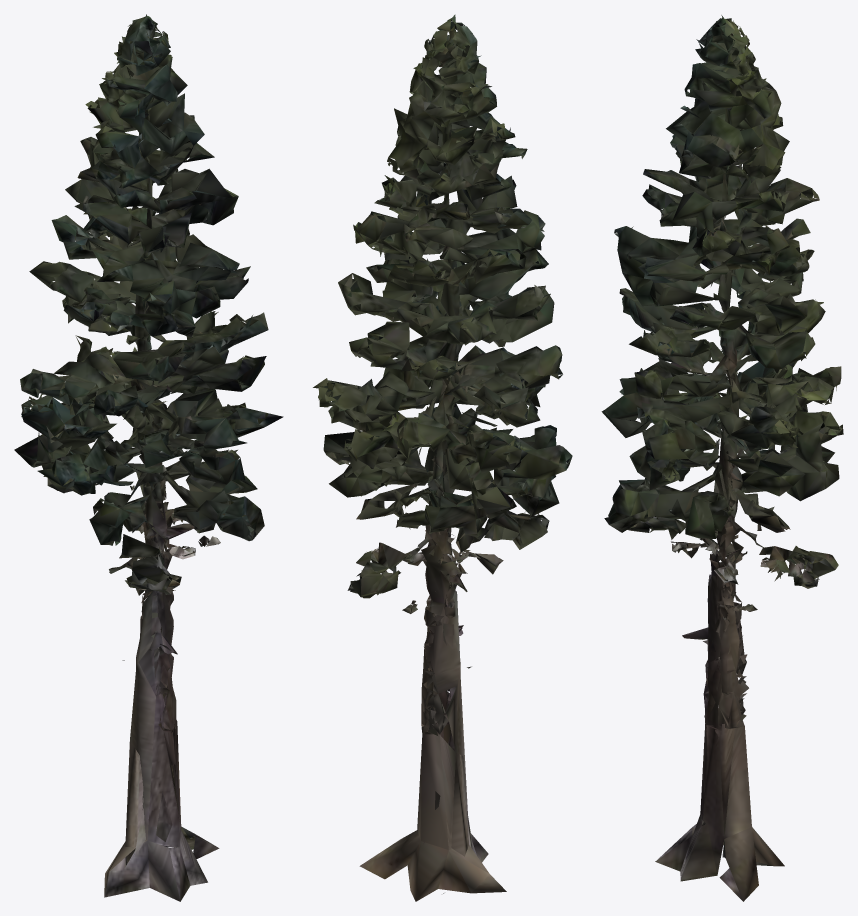
The model's file is Pin_tree.glb.
3 views of the same model, side by side, from view 1: azimuth 30°, elevation 25°; view 2: azimuth 150°, elevation 25°; view 3: azimuth 270°, elevation 25° (orthographic).
Parts seen in each view (by area): view 1: Pin_tree_lite; view 2: Pin_tree_lite; view 3: Pin_tree_lite.
Boxes of the visible parts, left/top/right/bottom form: Pin_tree_lite: left=14, top=14, right=283, bottom=901; Pin_tree_lite: left=313, top=14, right=572, bottom=901; Pin_tree_lite: left=601, top=15, right=843, bottom=901.
Size of the model in its own units: 4.7 by 17.91 by 4.61.
1 material, 1 textured.
